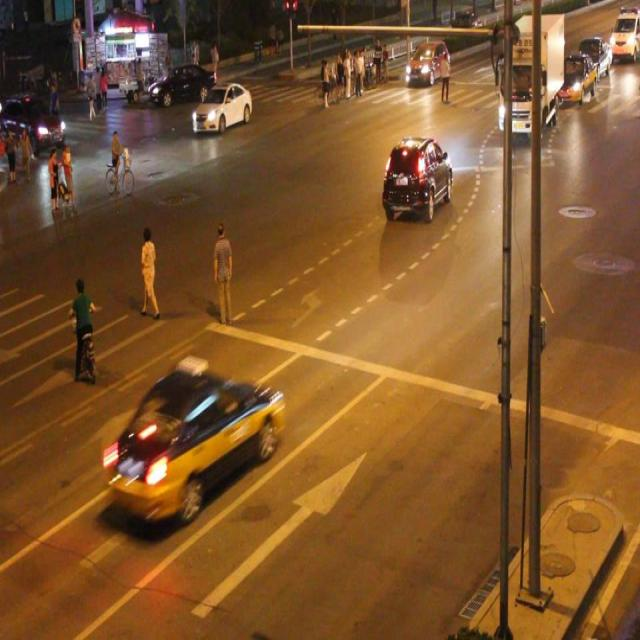bus: (497, 10, 564, 139)
car: (105, 359, 286, 522), (385, 134, 452, 218), (193, 84, 252, 134), (151, 66, 216, 100)
